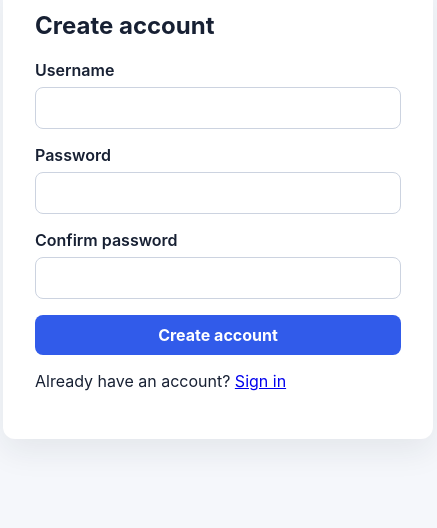
Test: Register › shows a connection hint when the API cannot be reached
Type "new-user" into the field labelled "Username" at (218, 108), box [35,87,401,129]
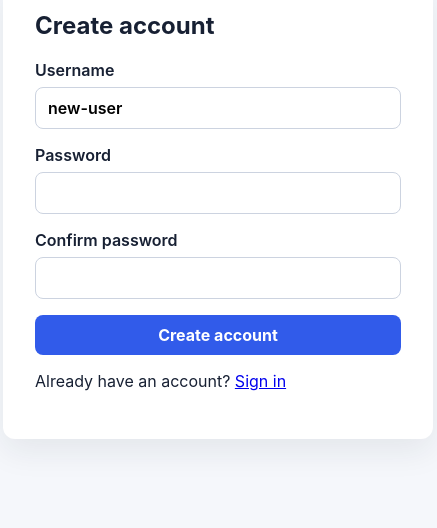
Type "LongSecurePassword123" into the password field labelled "Password" at (218, 193), box [35,172,401,214]
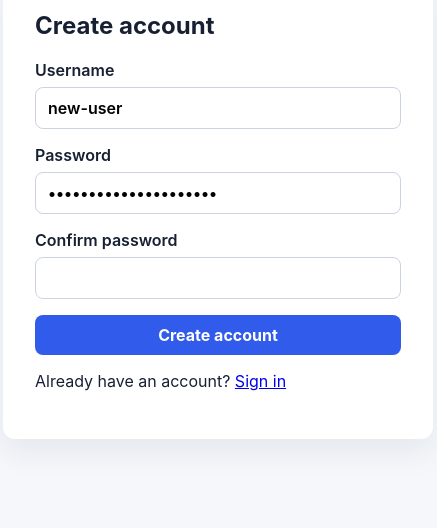
Type "LongSecurePassword123" into the password field labelled "Confirm password" at (218, 278), box [35,257,401,299]
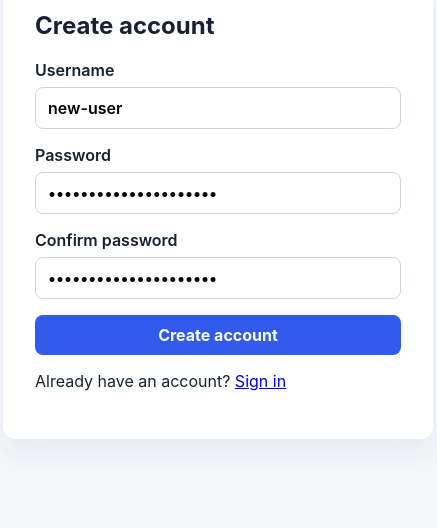
Click the button "Create account" at (218, 335), box [35,315,401,355]
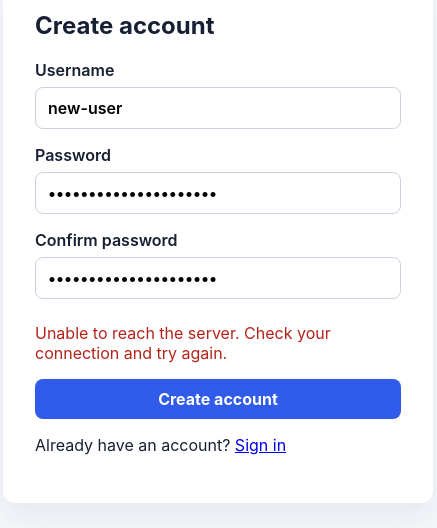
Expected: the message shows "Unable to reach the server", [35,323,331,363]
